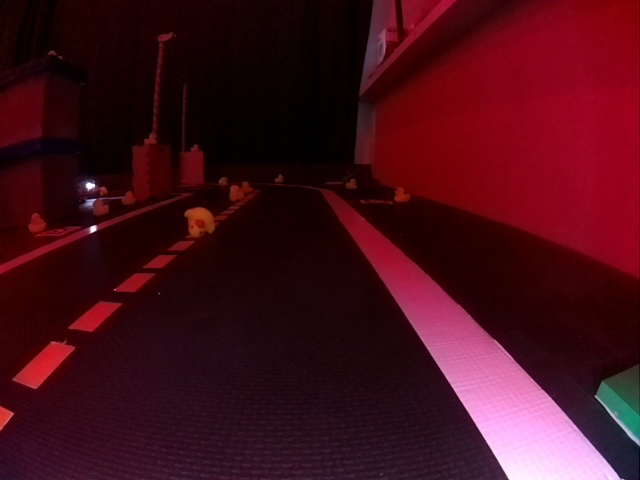Duckie: (186, 207, 215, 237), (29, 212, 47, 234), (121, 191, 135, 204), (394, 189, 409, 200), (346, 179, 356, 187)
